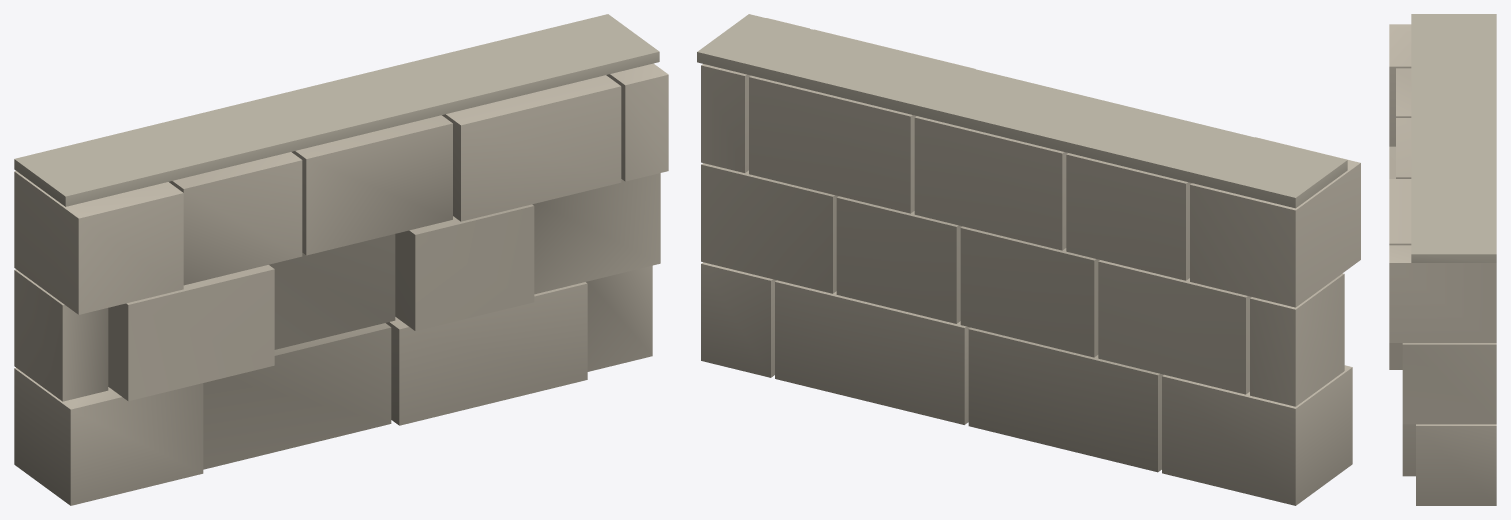
File: qface.glb
3 renders of one model, left to right at view 1: azimuth 30°, elevation 25°; view 2: azimuth 150°, elevation 25°; view 3: azimuth 270°, elevation 25°, orthographic. The views are drawn at different scales.
Visible parts, largest first — view 1: qface; view 2: qface; view 3: qface.
Boxes of the visible parts, x1=… form: qface: x1=14, y1=14, x2=668, y2=505; qface: x1=697, y1=14, x2=1360, y2=505; qface: x1=1389, y1=14, x2=1496, y2=505.
Bounding box in the file's own units: 6 × 2.95 × 1.13.
